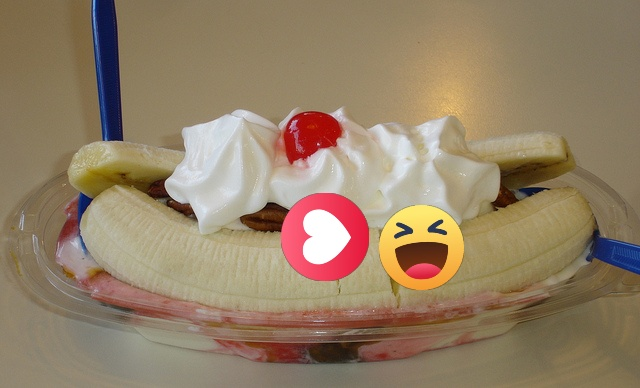haha: (379, 205, 464, 290)
love: (281, 193, 369, 281)
